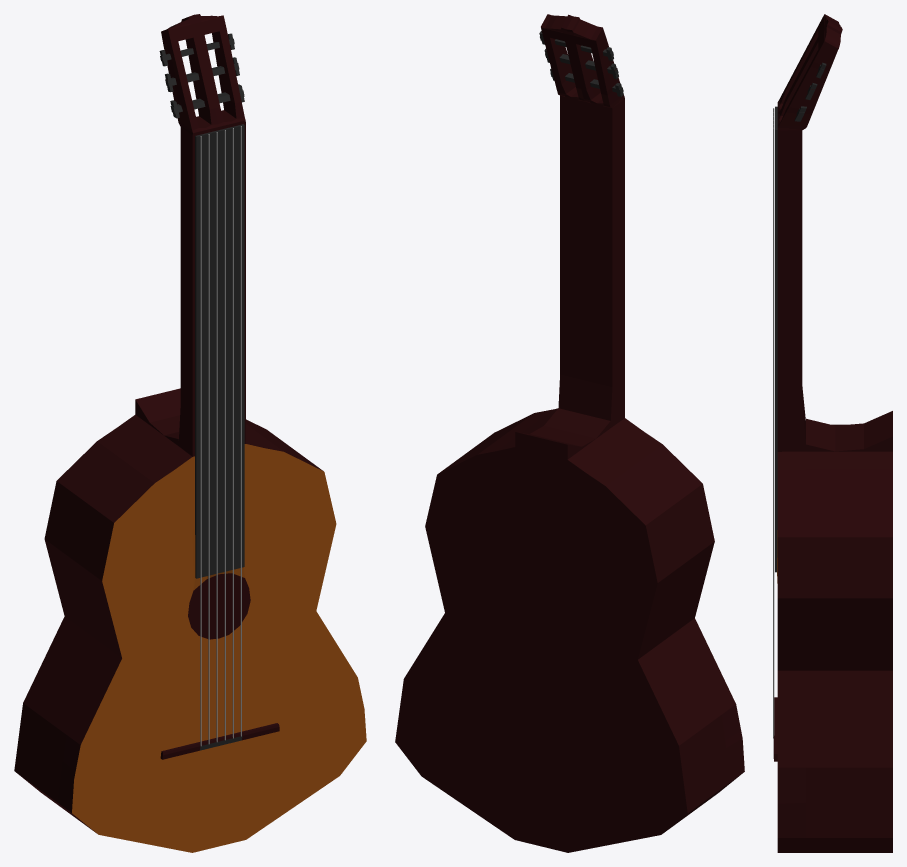
The model's file is Low_poly_Spanish_classical_guitar.glb.
The picture shows the model from 3 angles, left to right: view 1: azimuth 30°, elevation 25°; view 2: azimuth 150°, elevation 25°; view 3: azimuth 270°, elevation 25°; orthographic projection.
Visible parts, largest first — view 1: unnamed (×5); view 2: unnamed; view 3: unnamed (×3).
Boxes of the visible parts, box(x1,y1,x2,y2) form: unnamed (×5): box(14, 14, 366, 852); unnamed: box(395, 14, 744, 852); unnamed (×3): box(773, 14, 892, 852).
Size of the model in its own units: 0.3866 by 1.02 by 0.1359.
